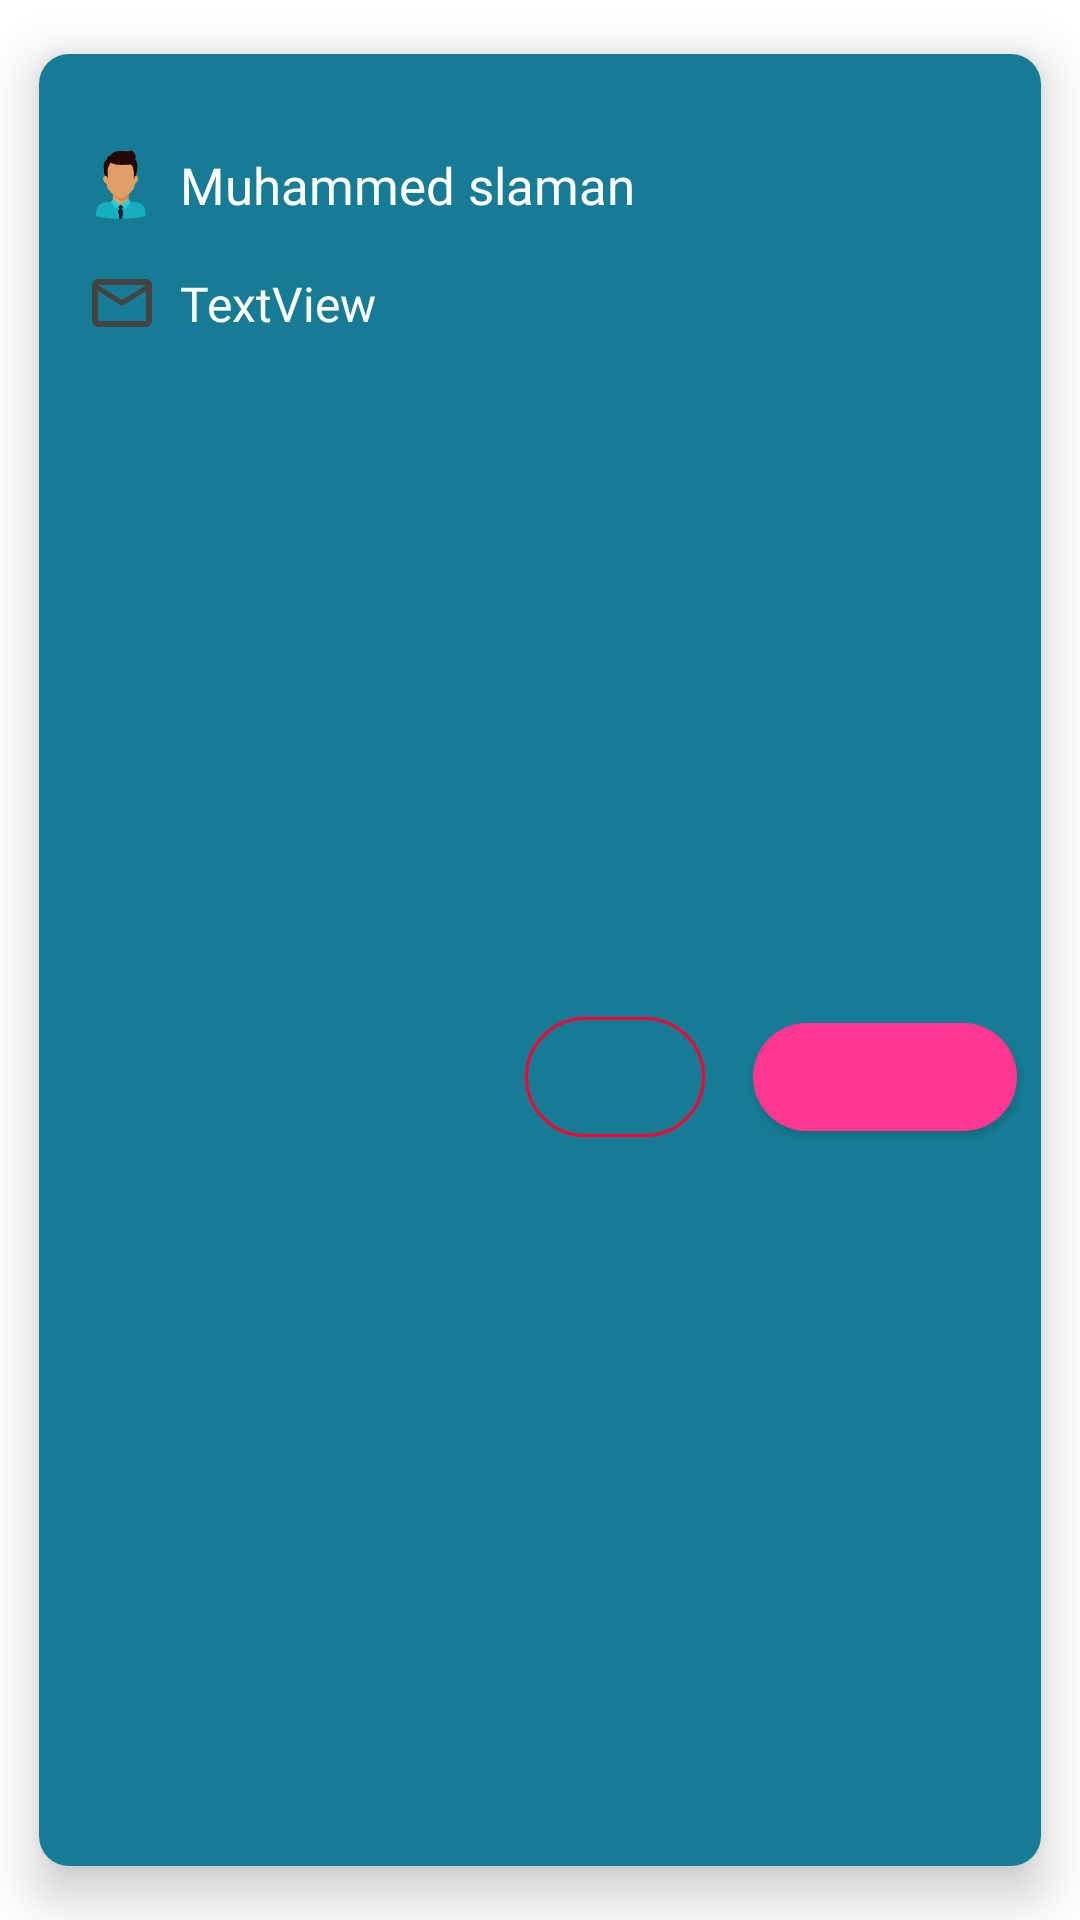

Named icons in this screenshot (1080px x 1920px) and their centers, [x,y]:
mail: [122,303]
man: [120,184]
